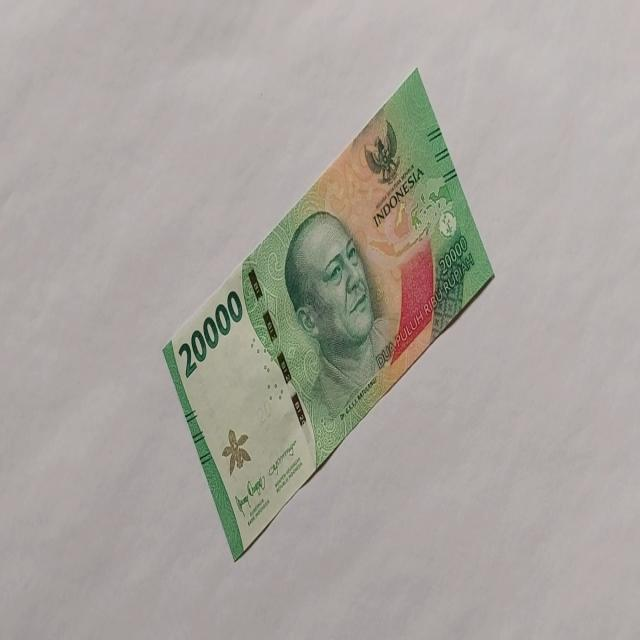dua puluh ribu rupiah: (161, 66, 495, 561), (282, 208, 392, 417), (177, 288, 243, 380)
